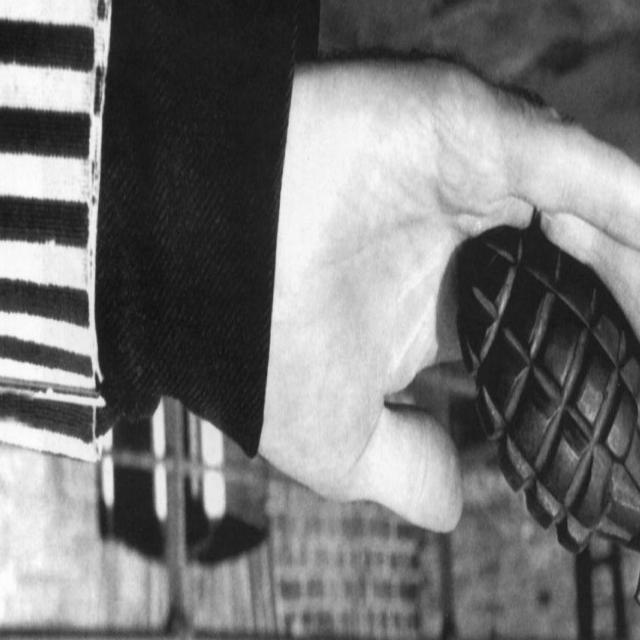grenade: (455, 228, 640, 557)
